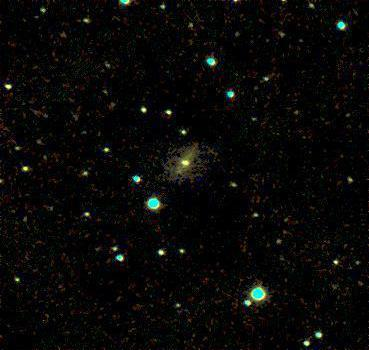star: (165, 158, 195, 188)
